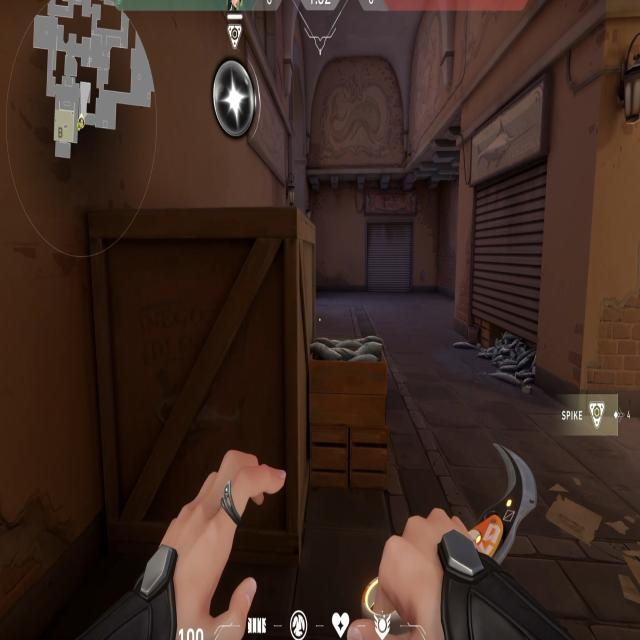B_Main_Corner: (459, 63, 557, 397)
B_Main_Wallbang: (56, 50, 389, 598)
